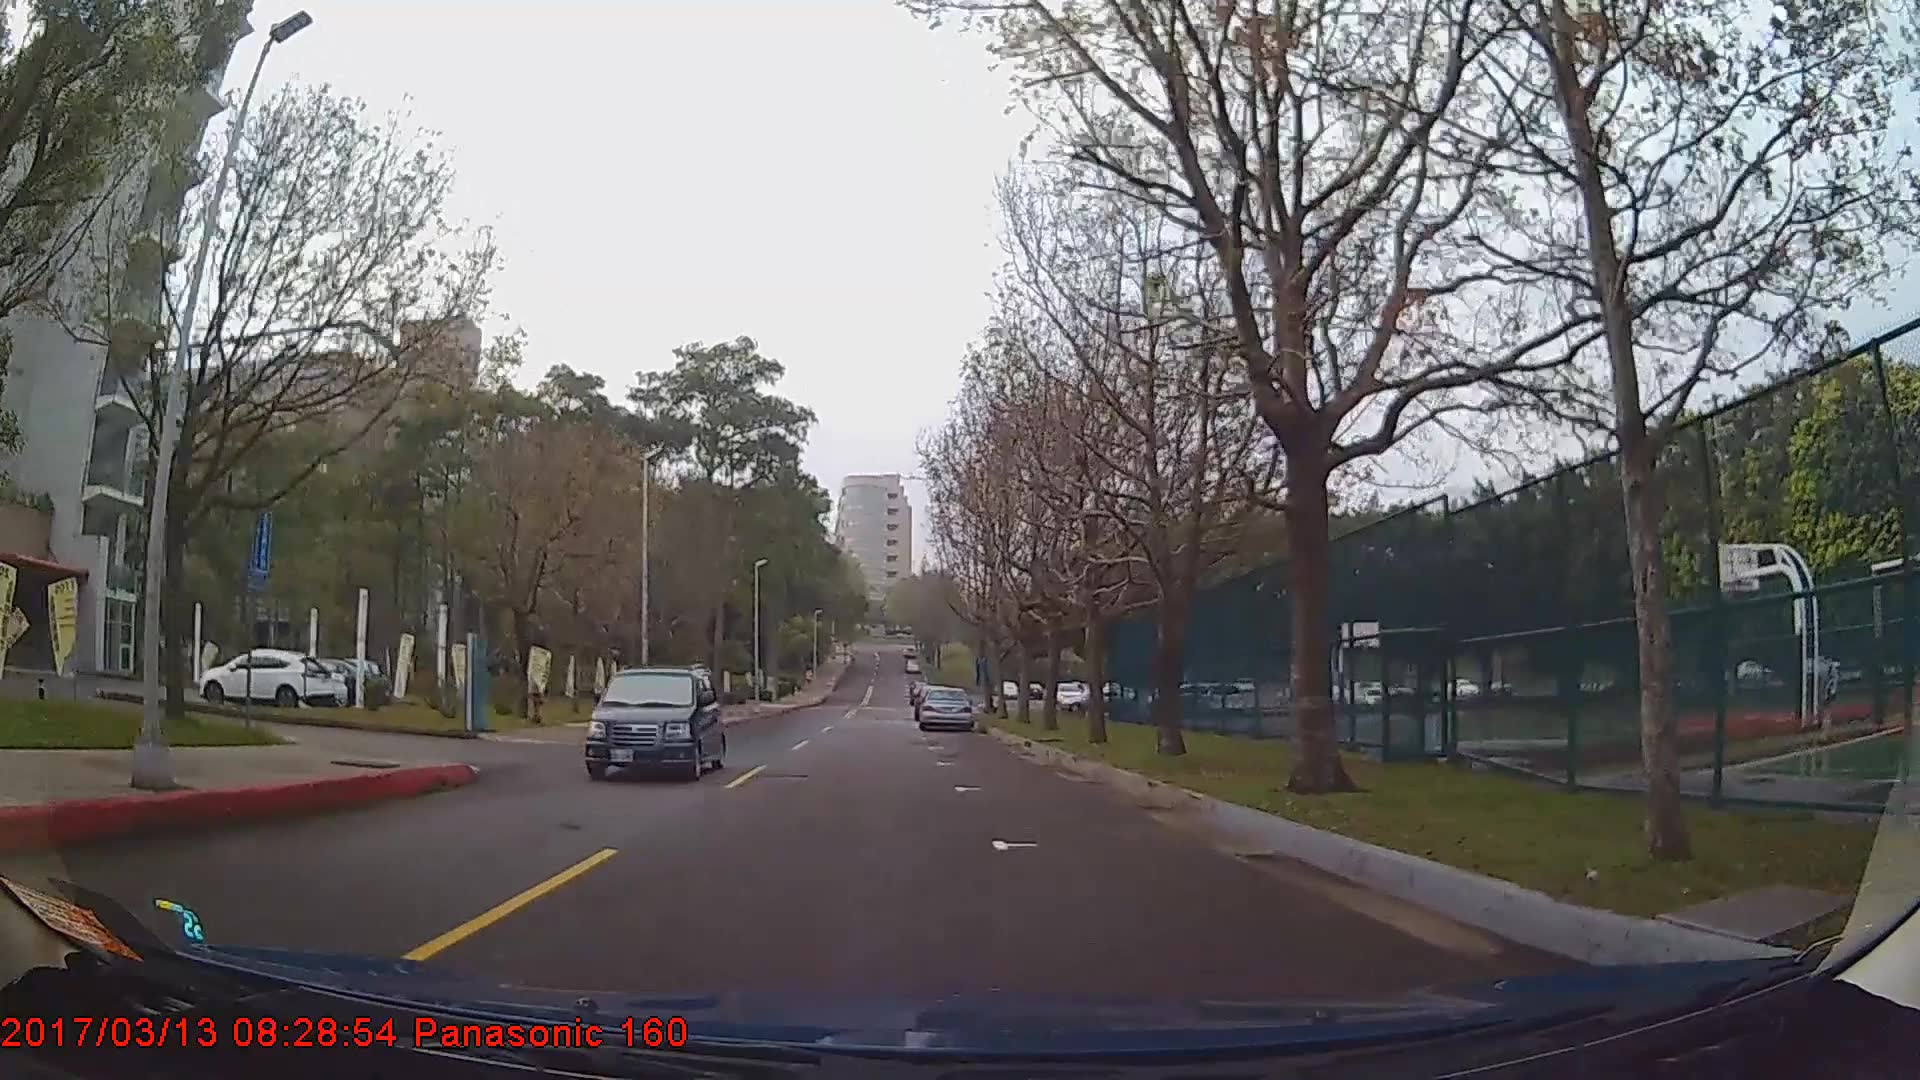vehicle: (582, 665, 724, 783), (198, 646, 334, 709), (916, 686, 973, 735)
